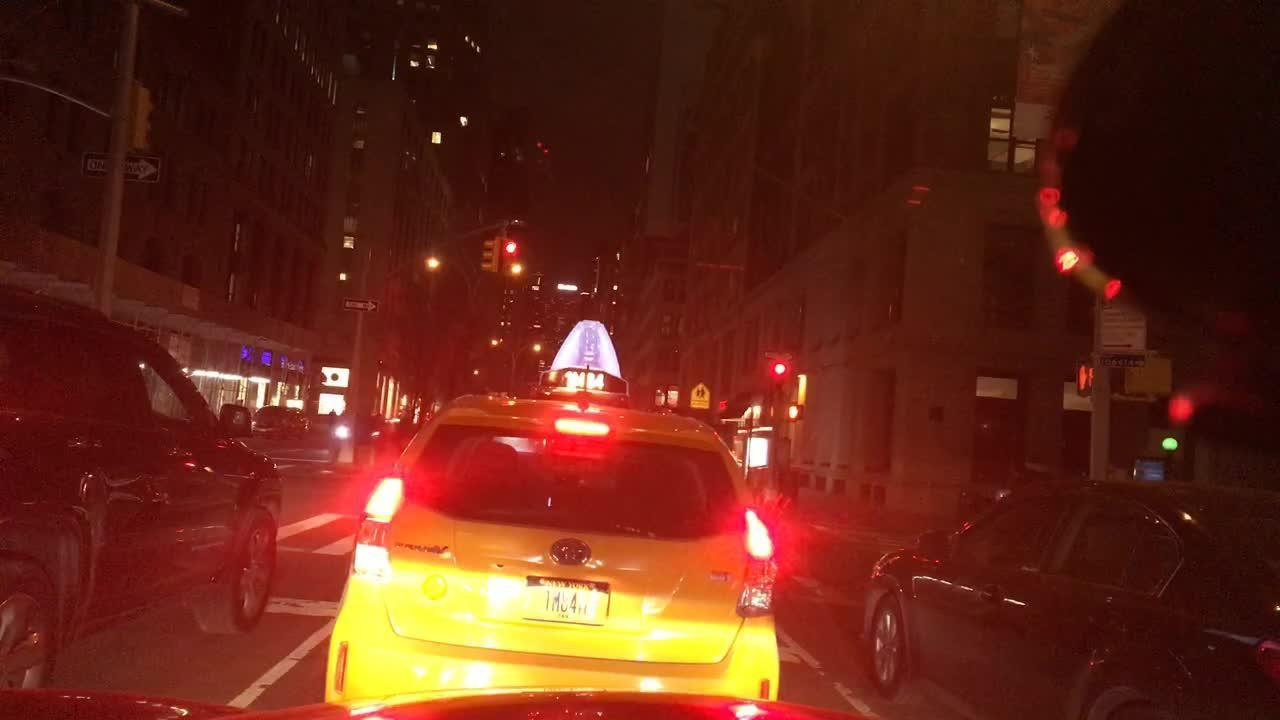Toyota: (536, 532, 609, 581)
